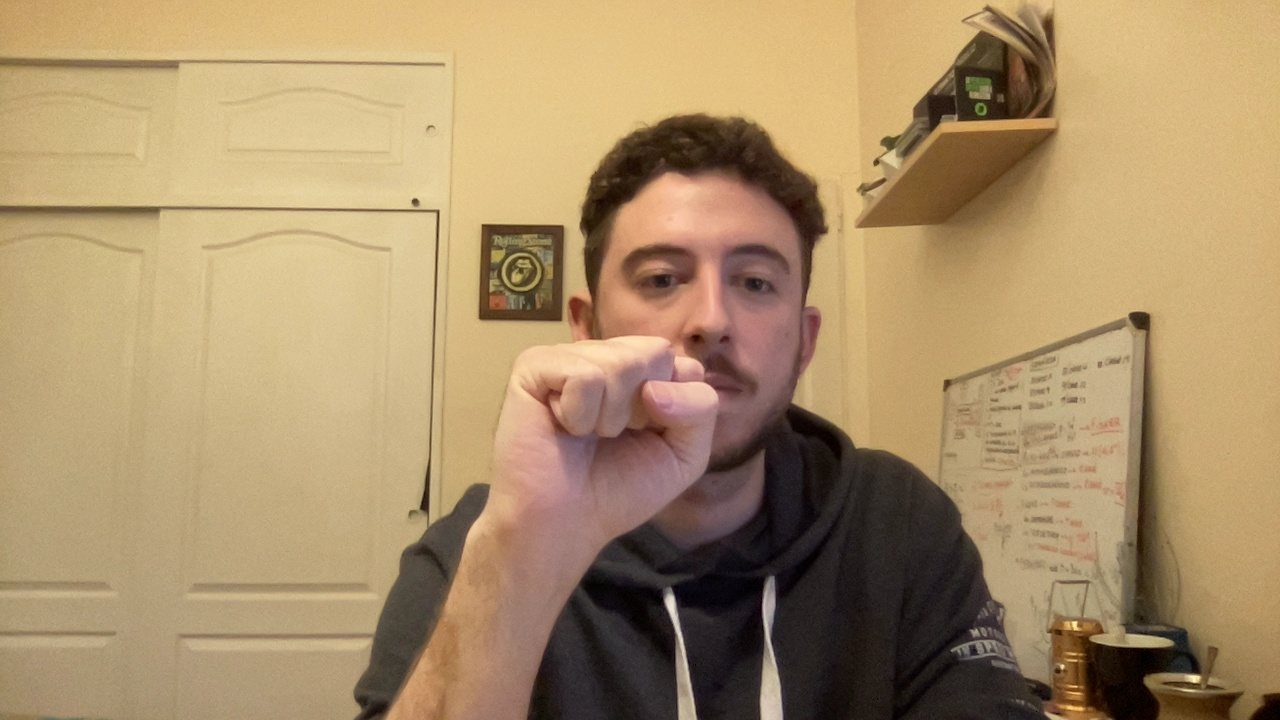cerrado: (469, 302, 737, 543)
